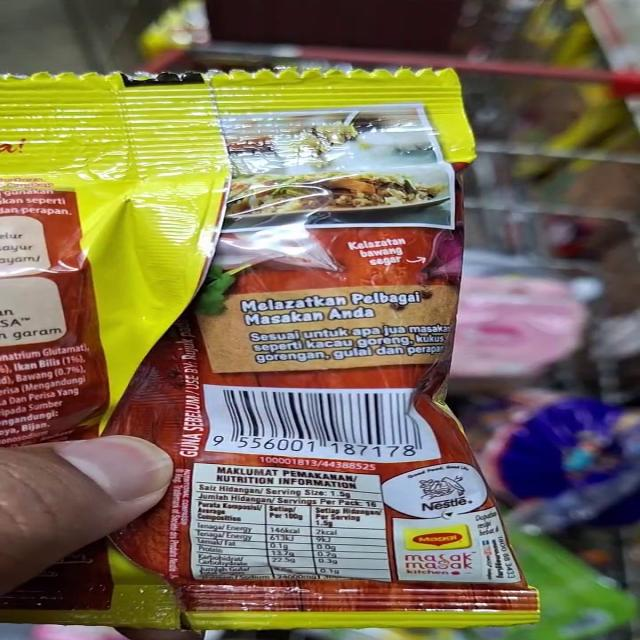Maggi Cukup Rasa: (0, 71, 559, 627)
